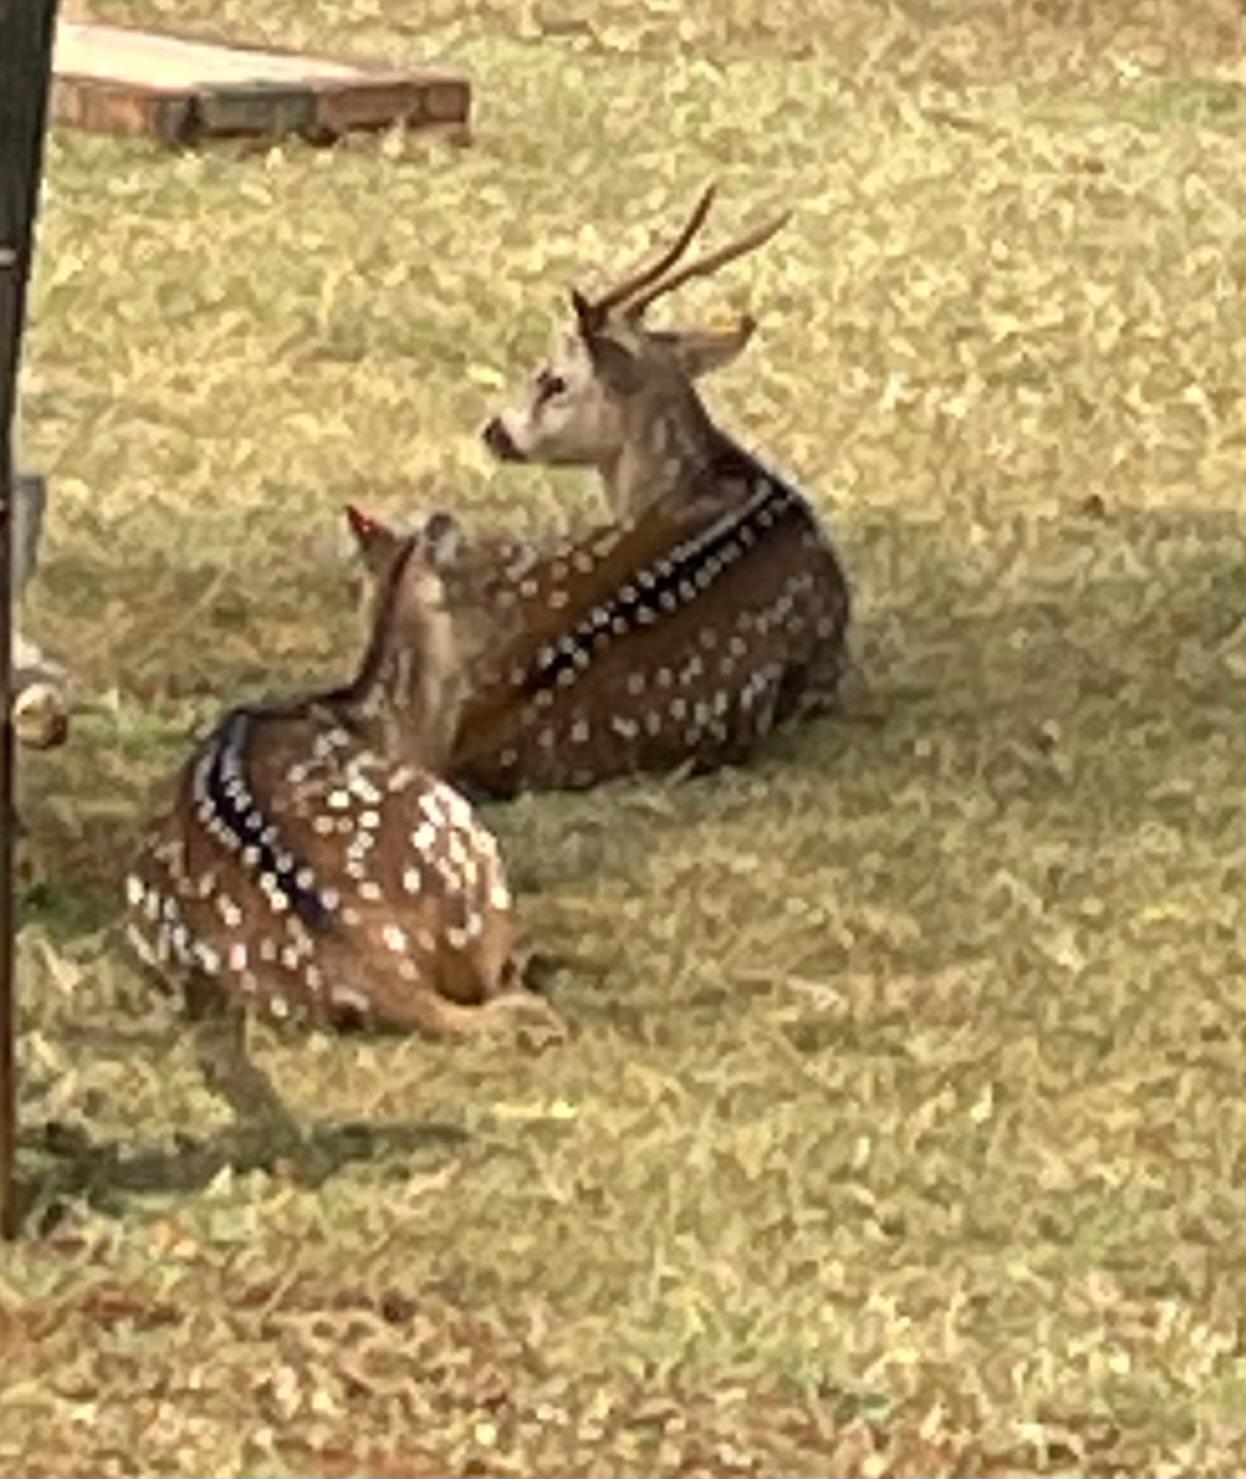Deer: (449, 187, 850, 799), (129, 509, 517, 1030)
